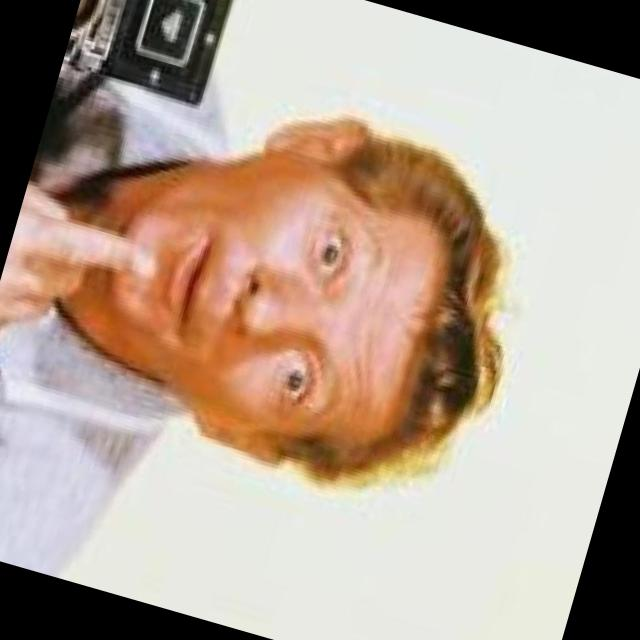bareface: (54, 107, 473, 510)
